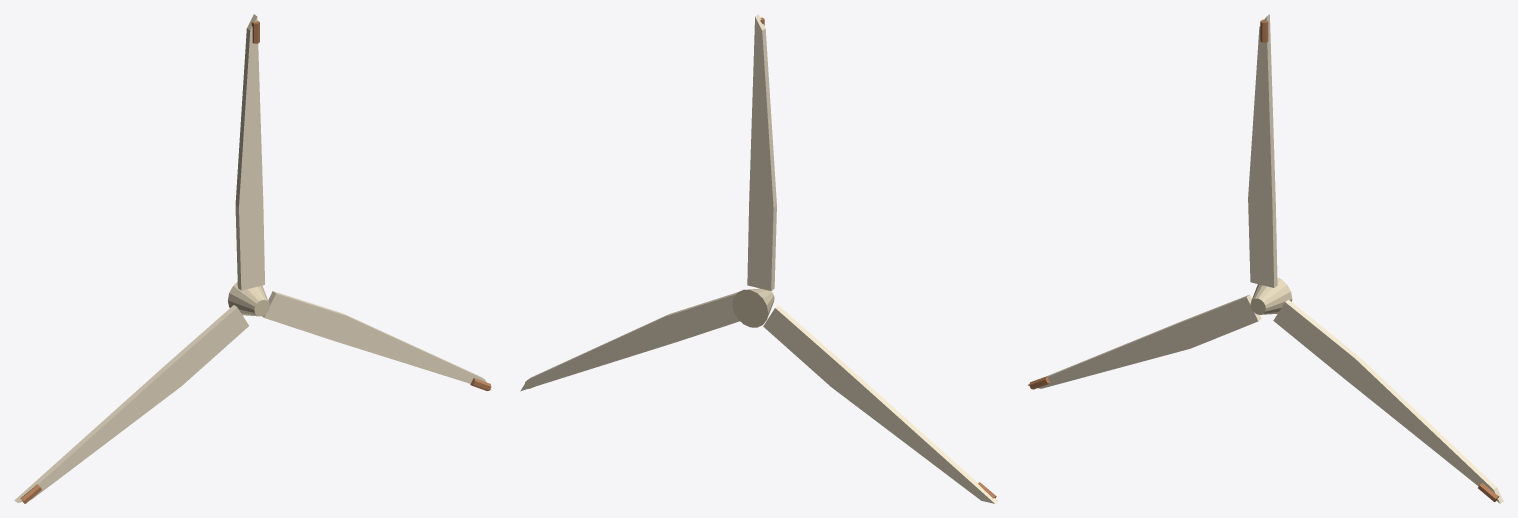
The model's file is hsc3_wind_rotor.glb.
3 views of the same model, side by side, from view 1: azimuth 30°, elevation 25°; view 2: azimuth 150°, elevation 25°; view 3: azimuth 330°, elevation 25° (orthographic).
Visible parts, largest first — view 1: hsc3_wind_rotor__hsc3-pale-trim, hsc3_wind_rotor__hsc3-cream-enamel, hsc3_wind_rotor__hsc3-roasted-copper; view 2: hsc3_wind_rotor__hsc3-pale-trim, hsc3_wind_rotor__hsc3-cream-enamel; view 3: hsc3_wind_rotor__hsc3-pale-trim, hsc3_wind_rotor__hsc3-cream-enamel, hsc3_wind_rotor__hsc3-roasted-copper.
Part boxes in pixels (bbox=[...]): hsc3_wind_rotor__hsc3-pale-trim: bbox=[14, 14, 491, 502]; hsc3_wind_rotor__hsc3-cream-enamel: bbox=[228, 282, 269, 316]; hsc3_wind_rotor__hsc3-roasted-copper: bbox=[20, 21, 491, 503]; hsc3_wind_rotor__hsc3-pale-trim: bbox=[520, 14, 998, 503]; hsc3_wind_rotor__hsc3-cream-enamel: bbox=[732, 288, 774, 327]; hsc3_wind_rotor__hsc3-pale-trim: bbox=[1027, 14, 1503, 503]; hsc3_wind_rotor__hsc3-cream-enamel: bbox=[1250, 277, 1292, 314]; hsc3_wind_rotor__hsc3-roasted-copper: bbox=[1029, 19, 1499, 501].
Bounding box in the file's own units: 39.84 × 34.63 × 2.4.
